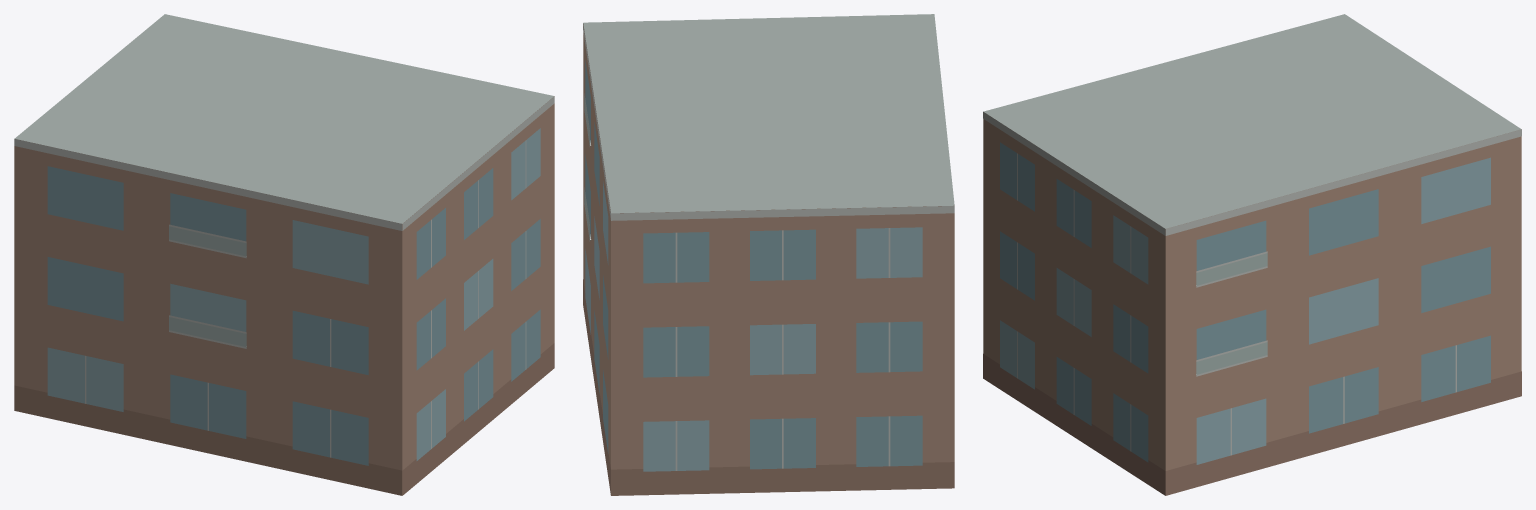
File: survey-upis-32590303.glb
3 views of the same model, side by side, from view 1: azimuth 30°, elevation 25°; view 2: azimuth 150°, elevation 25°; view 3: azimuth 270°, elevation 25° (orthographic). The views are drawn at different scales.
Visible parts, largest first — view 1: survey-upis-32590303.tmp; view 2: survey-upis-32590303.tmp; view 3: survey-upis-32590303.tmp.
Part boxes in pixels (bbox=[...]): survey-upis-32590303.tmp: bbox=[14, 14, 554, 495]; survey-upis-32590303.tmp: bbox=[583, 14, 954, 495]; survey-upis-32590303.tmp: bbox=[983, 14, 1521, 495].
Bounding box in the file's own units: 15.81 × 9.15 × 16.74.
